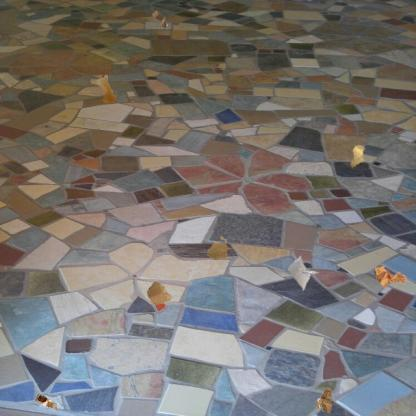dirty: (286, 254, 320, 290), (373, 264, 408, 289), (145, 279, 172, 305), (33, 392, 61, 415), (314, 386, 335, 415), (348, 143, 367, 168), (150, 9, 167, 29)
liquid: (90, 74, 116, 103), (206, 235, 233, 262)
